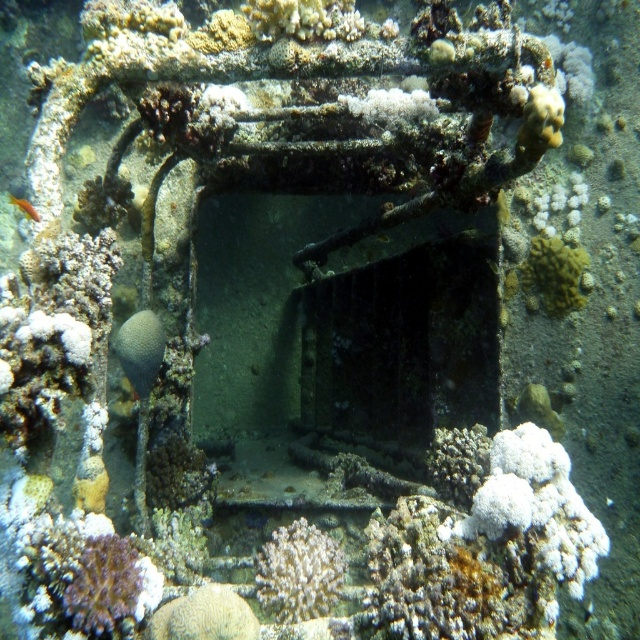Fish: (4, 189, 41, 222)
